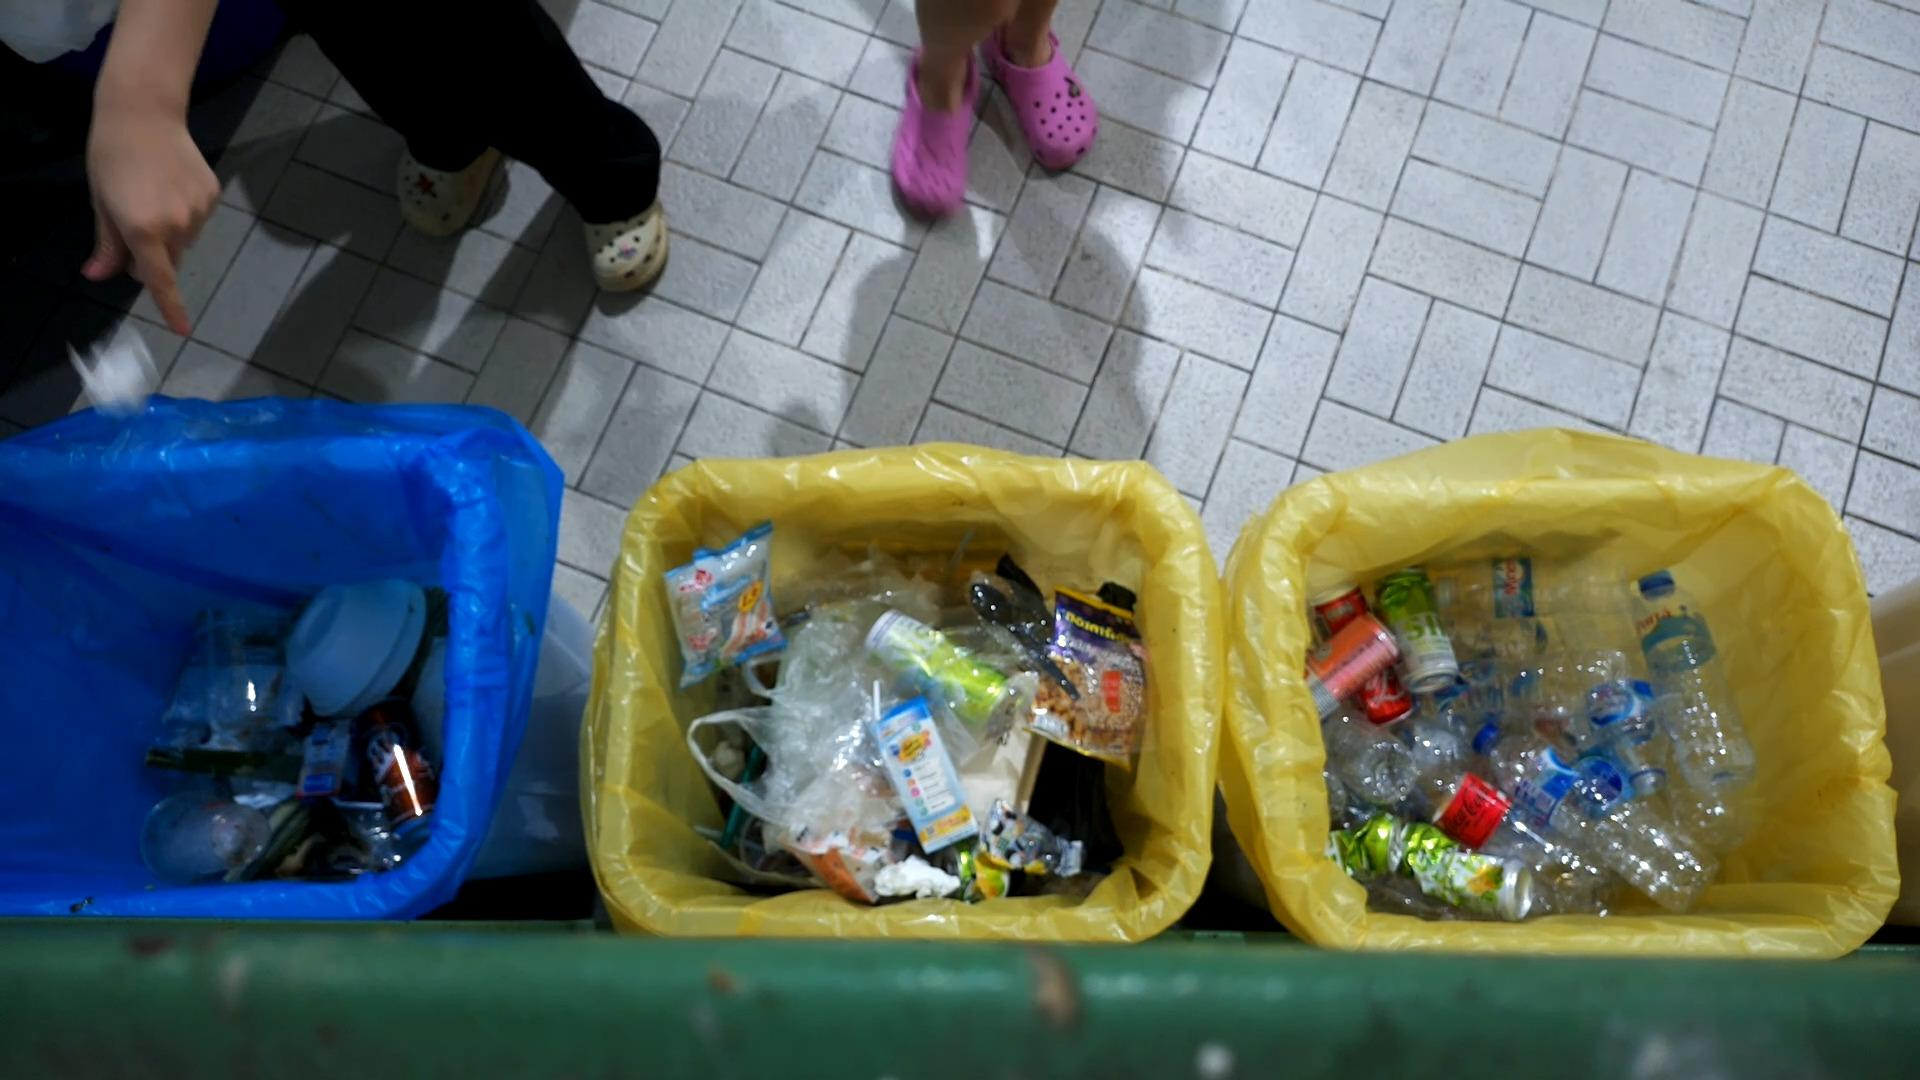can: (862, 605, 1015, 738), (1311, 583, 1422, 727), (1403, 819, 1538, 923), (357, 700, 440, 836), (1303, 611, 1399, 720), (1378, 572, 1461, 691), (1331, 811, 1402, 877)
food container: (285, 580, 429, 717)
milk carton: (862, 695, 981, 855), (299, 724, 351, 798)
plastic bag: (687, 595, 877, 855)
plastic bottle: (1472, 721, 1721, 914), (1412, 765, 1613, 918), (1633, 568, 1759, 795), (1551, 574, 1667, 803), (1427, 555, 1606, 617), (1315, 709, 1419, 810)
plastic cutlery: (971, 576, 1083, 702)
snack packaging: (658, 516, 789, 684), (1025, 589, 1145, 769), (978, 799, 1083, 878), (814, 828, 907, 907)
tissue paper: (67, 318, 158, 421), (865, 851, 967, 898)
